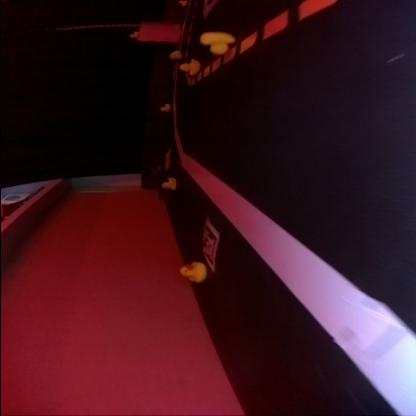Duckie: (198, 31, 228, 53), (179, 262, 203, 282), (178, 58, 198, 74), (160, 176, 174, 188), (168, 51, 180, 58), (158, 102, 166, 108)
QR code: (201, 221, 215, 267)
